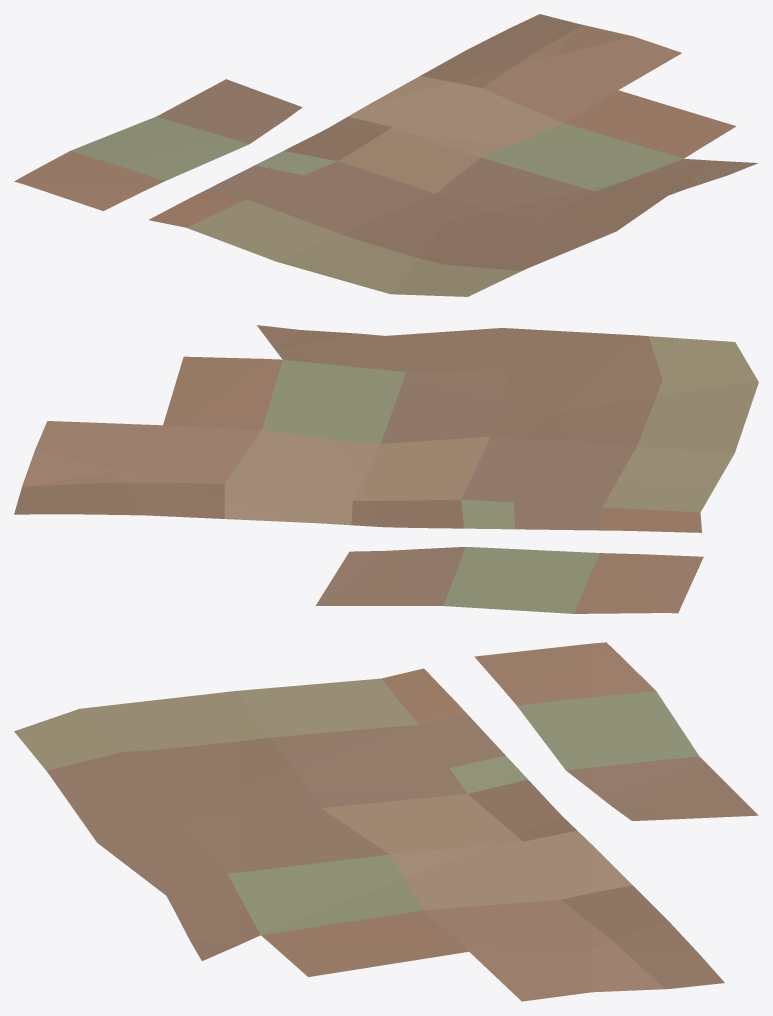
Rendered from farm_-46_-43_soil.glb.
3 renders of one model, top to bottom at view 1: azimuth 30°, elevation 25°; view 2: azimuth 150°, elevation 25°; view 3: azimuth 270°, elevation 25°, orthographic. The views are drawn at different scales.
Visible parts, largest first — view 1: geometry_0; view 2: geometry_0; view 3: geometry_0.
Part boxes in pixels (x1,y1,x2,y2): geometry_0: (14, 14, 758, 296); geometry_0: (14, 325, 758, 613); geometry_0: (14, 642, 758, 1001).
Size of the model in its own units: 193 by 10.1 by 169.
